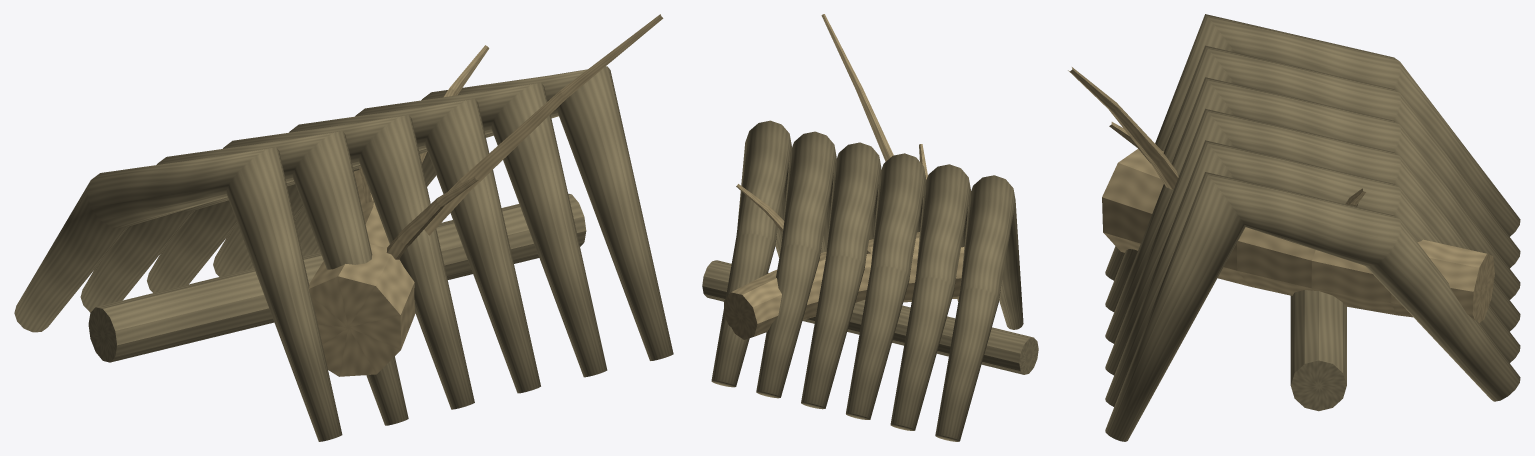
Rendered from driftwood_snarl_swamp_and_mangrove_22652.glb.
3 renders of one model, left to right at view 1: azimuth 30°, elevation 25°; view 2: azimuth 150°, elevation 25°; view 3: azimuth 270°, elevation 25°, orthographic. The views are drawn at different scales.
Parts seen in each view (by area): view 1: driftwood-snarl; view 2: driftwood-snarl; view 3: driftwood-snarl.
Part boxes in pixels (x1,y1,x2,y2): driftwood-snarl: (14,14,673,441); driftwood-snarl: (702,14,1038,441); driftwood-snarl: (1068,14,1520,441).
Size of the model in its own units: 1.7 by 1.3 by 1.46.
2 materials, 2 textured.
